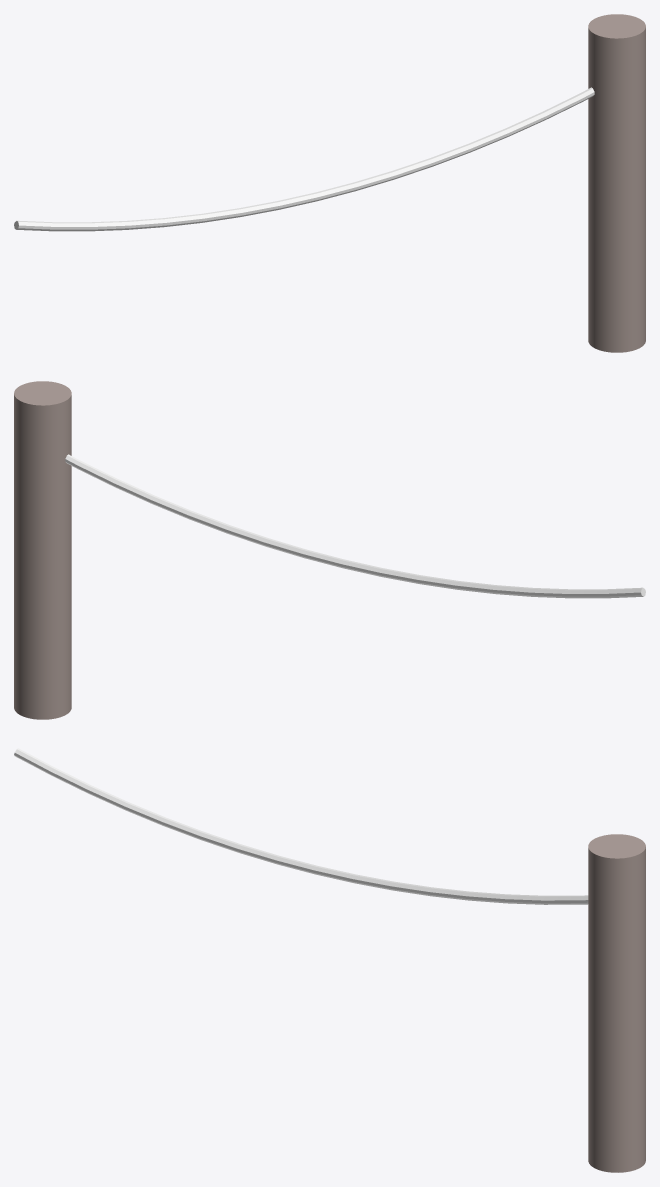
The model's file is 1035_fence_connect.glb.
3 renders of one model, top to bottom at view 1: azimuth 30°, elevation 25°; view 2: azimuth 150°, elevation 25°; view 3: azimuth 330°, elevation 25°, orthographic.
Visible parts, largest first — view 1: Body; view 2: Body; view 3: Body.
Boxes of the visible parts, x1=… form: Body: x1=14, y1=14, x2=645, y2=352; Body: x1=14, y1=381, x2=645, y2=719; Body: x1=14, y1=748, x2=645, y2=1172.
Bounding box in the file's own units: 1.25 × 0.6 × 0.1.
